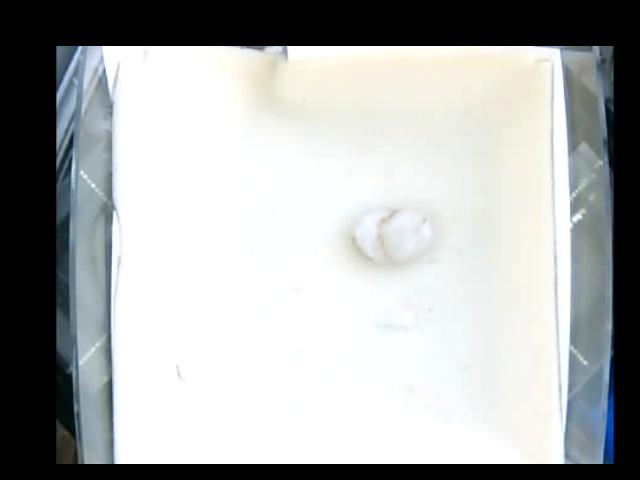Pebble: (349, 207, 433, 262)
